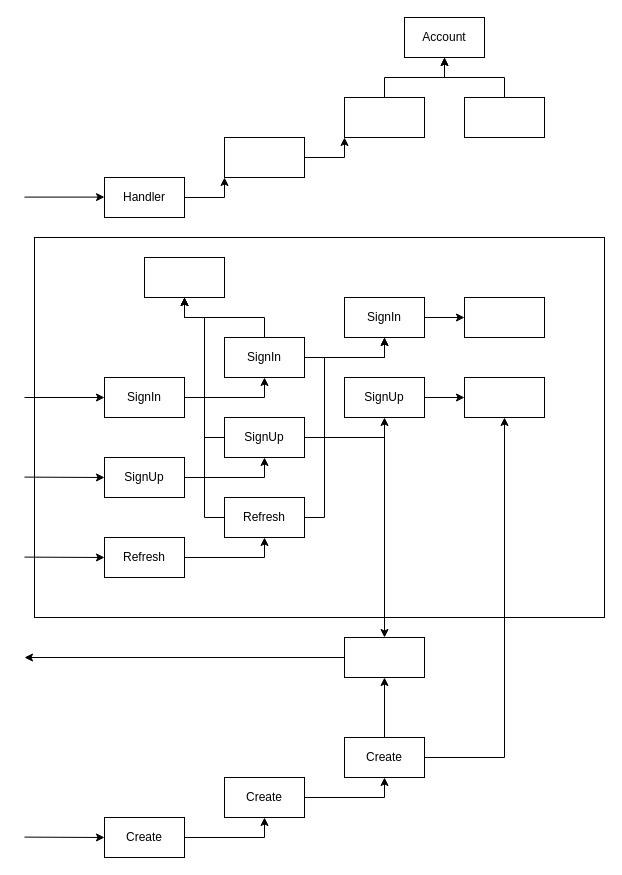
The diagram is 622 pixels wide and 875 high, and some of its shapes have lost their labels. The shapes that lost their labels are listed below. From the top down, each one's centre as x and y in pixels, then its label:
point 384,117: Usecase
point 504,117: Repo
point 264,157: Controller
point 184,277: Securer
point 504,317: Get
point 504,397: Insert
point 384,657: Mailer
